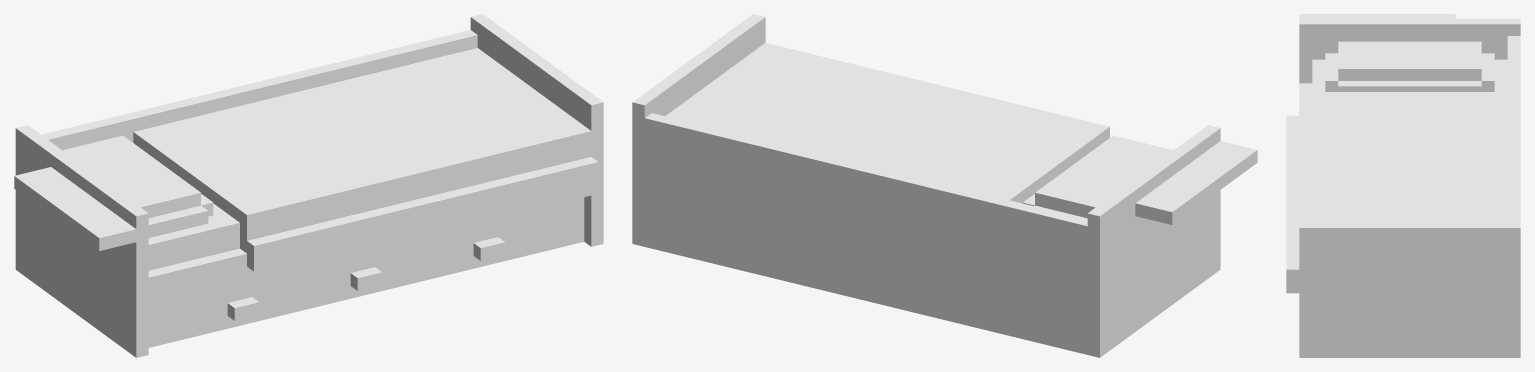
File: Bed.gltf
3 views of the same model, side by side, from view 1: azimuth 30°, elevation 25°; view 2: azimuth 150°, elevation 25°; view 3: azimuth 270°, elevation 25° (orthographic). The views are drawn at different scales.
Bounding box in the file's own units: 41 × 11 × 18.
Materials: 1 (1 with a texture image).
